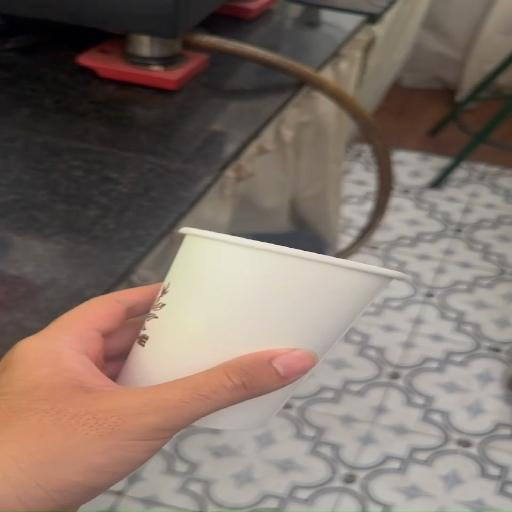ly_giay: (118, 228, 403, 385), (193, 383, 298, 429)
